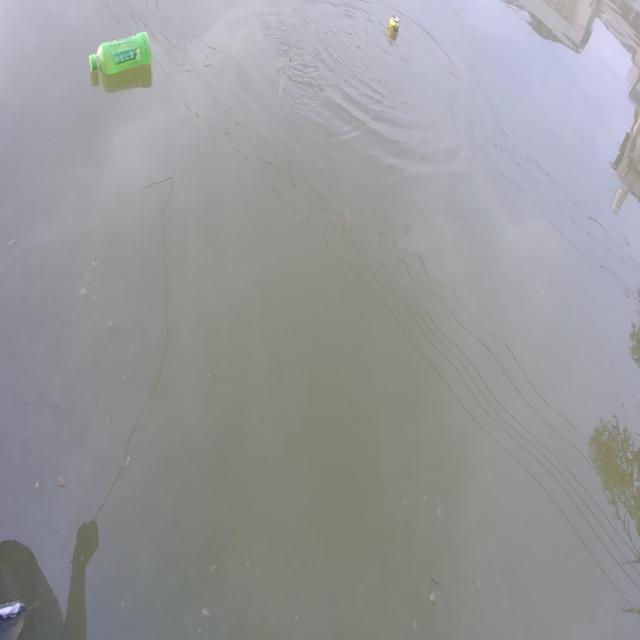Bottle: (88, 25, 155, 83)
Can: (384, 5, 402, 43)
